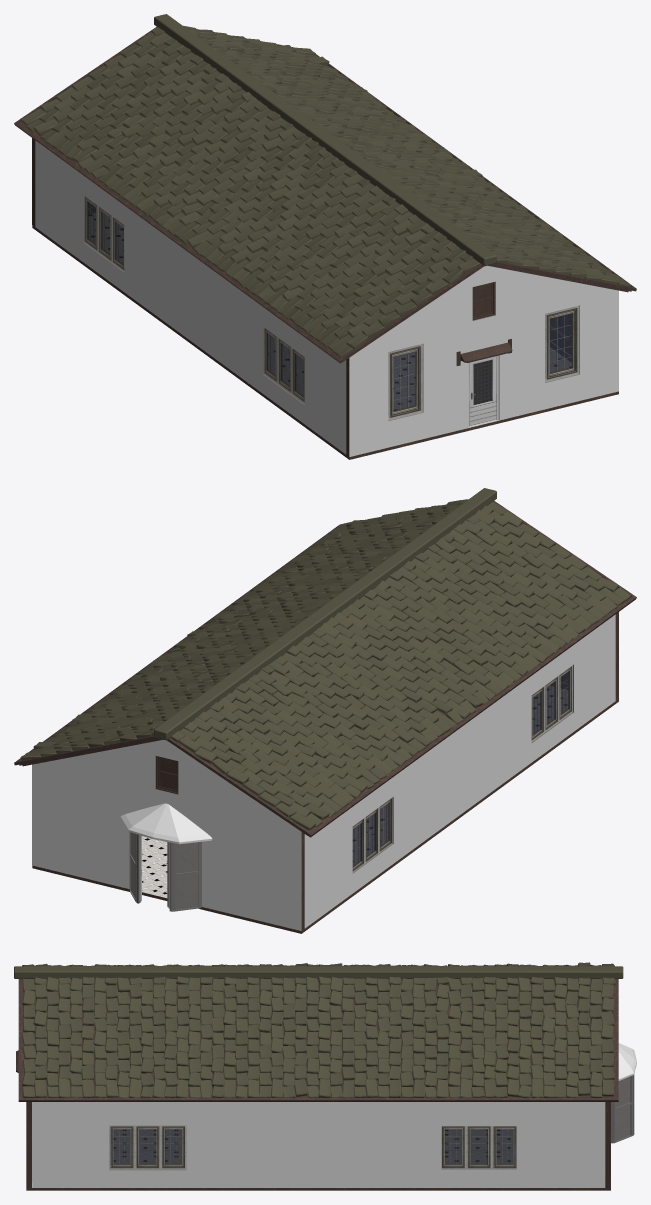
File: building.glb
The picture shows the model from 3 angles, top to bottom: view 1: azimuth 30°, elevation 25°; view 2: azimuth 150°, elevation 25°; view 3: azimuth 270°, elevation 25°; orthographic projection. The views are drawn at different scales.
Parts seen in each view (by area): view 1: house, house_Mat.3_0.001, 01_2_Mat.5_0, 01_1_Mat.5_0, 02_1_Mat.5_0, 02_1_1_Mat.5_0, DOOR_METAL__0_2; view 2: house, house_Mat.3_0.001, 02_1_Mat.5_0, 02_1_1_Mat.5_0; view 3: house, house_Mat.3_0.001, 02_Mat.5_0, 02_1_2_Mat.5_0.
Part boxes in pixels (box(x1,y1,x2,y2)): house: box(14, 14, 636, 459); house_Mat.3_0.001: box(35, 140, 618, 456); 01_2_Mat.5_0: box(545, 305, 579, 382); 01_1_Mat.5_0: box(388, 343, 422, 420); 02_1_Mat.5_0: box(263, 327, 304, 403); 02_1_1_Mat.5_0: box(84, 196, 124, 270); DOOR_METAL__0_2: box(469, 356, 496, 426); house: box(14, 488, 636, 933); house_Mat.3_0.001: box(32, 614, 615, 930); 02_1_Mat.5_0: box(531, 665, 572, 741); 02_1_1_Mat.5_0: box(352, 797, 392, 872); house: box(14, 962, 634, 1190); house_Mat.3_0.001: box(32, 1043, 636, 1187); 02_Mat.5_0: box(109, 1126, 186, 1169); 02_1_2_Mat.5_0: box(441, 1126, 516, 1169).
Size of the model in its own units: 11.04 by 6.21 by 21.74.
10 materials, 7 textured.
